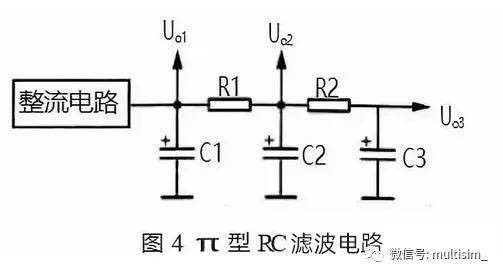cap1: (154, 143, 198, 162), (257, 145, 303, 162), (357, 146, 398, 165)
res1: (304, 95, 354, 117), (203, 95, 254, 115)
